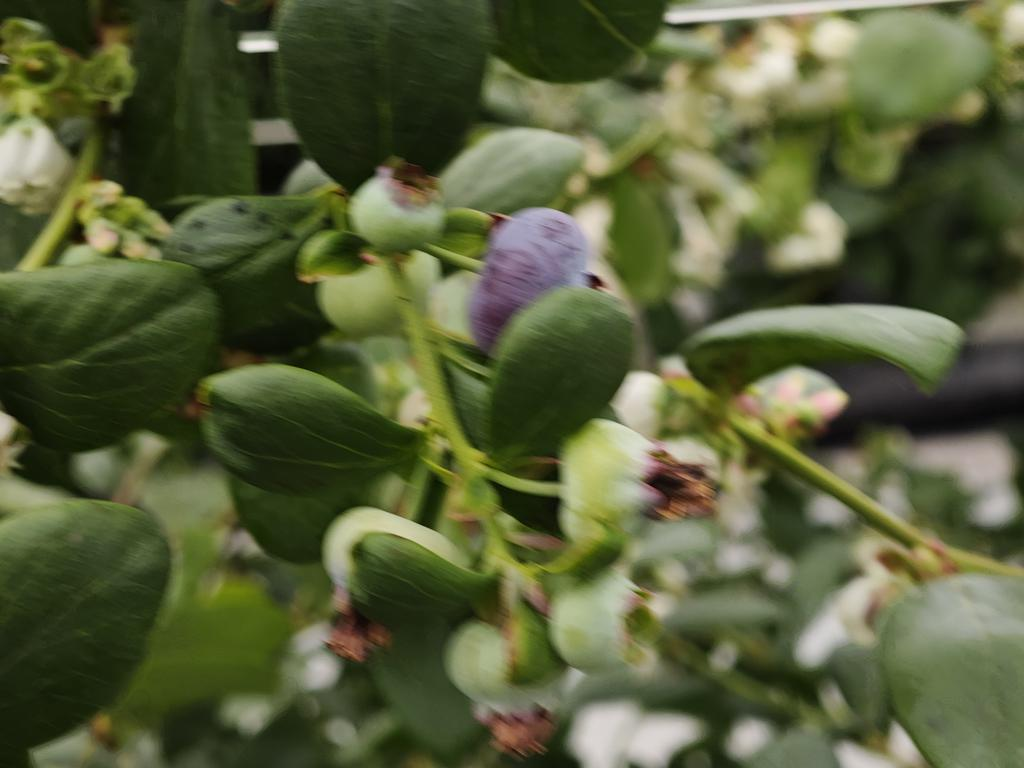RipeBlueBerry: (472, 202, 592, 364)
